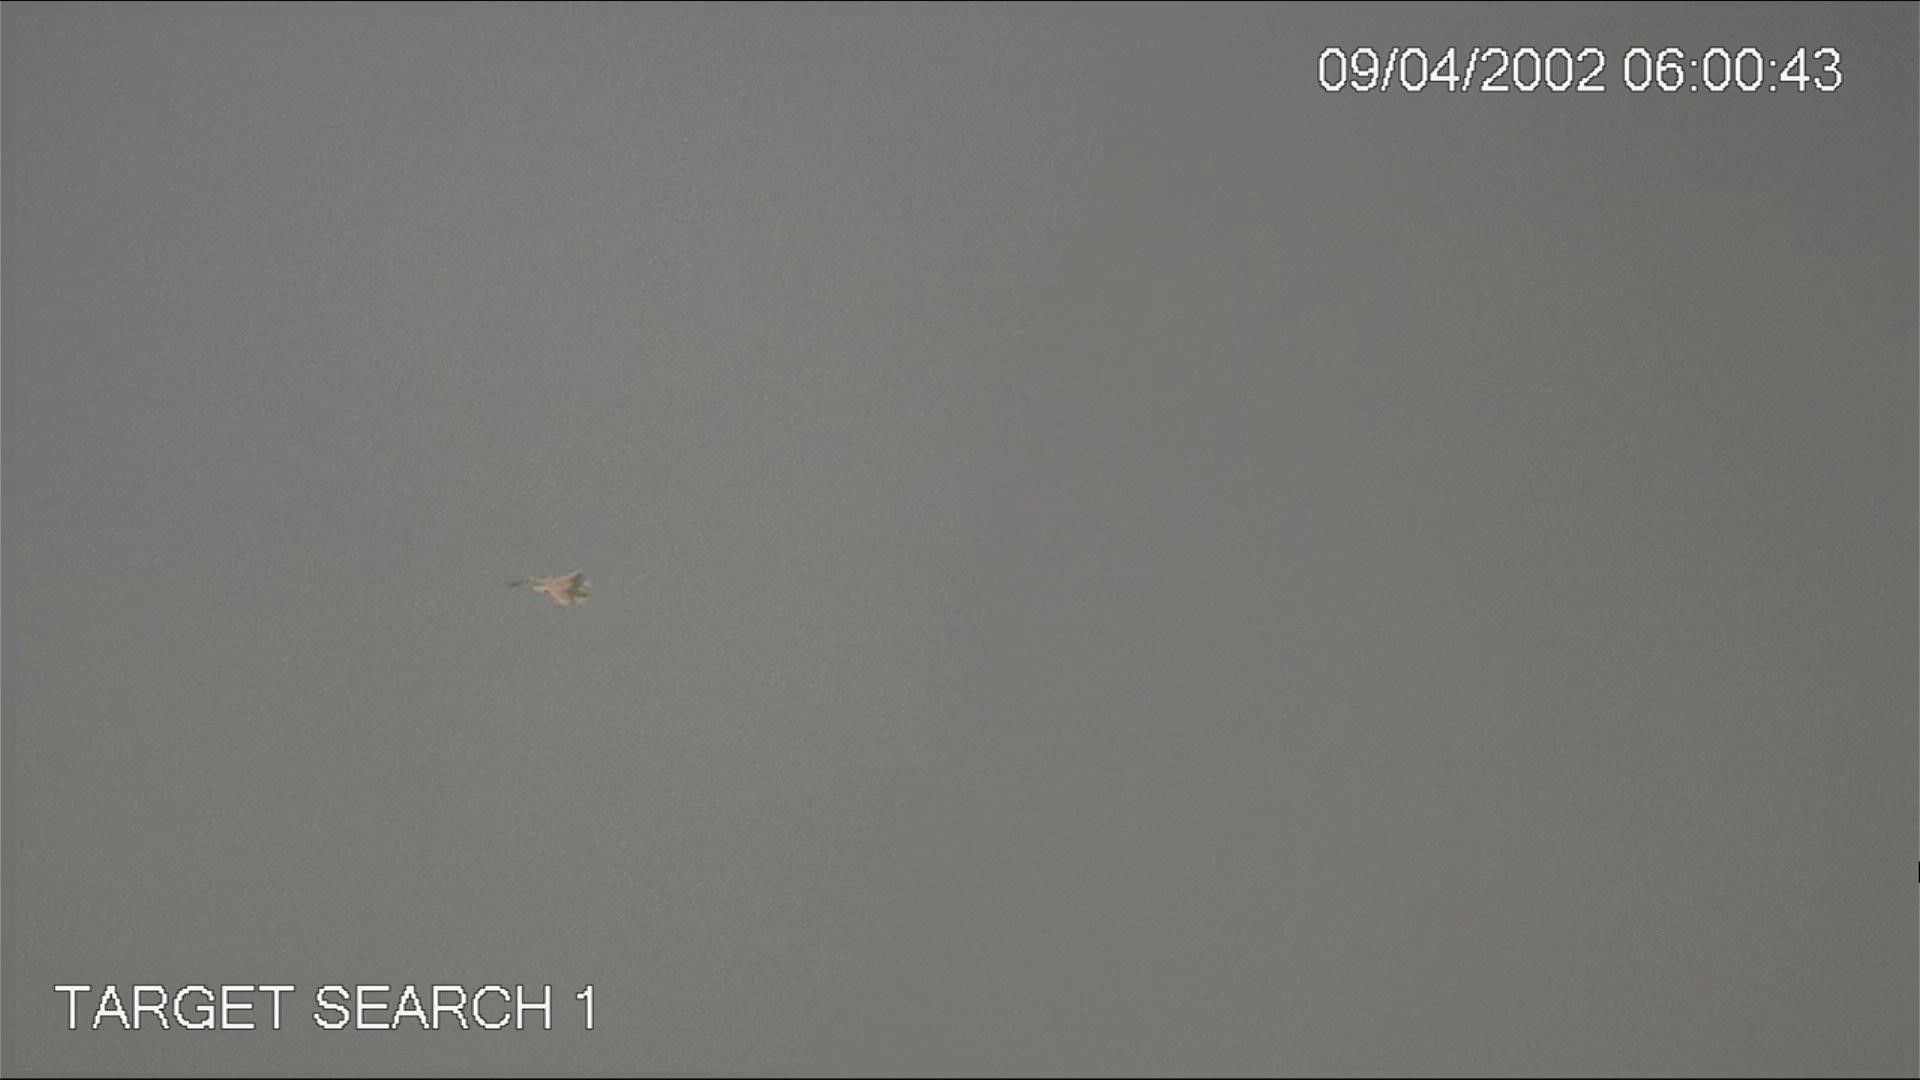SU_30: (508, 567, 593, 611)
